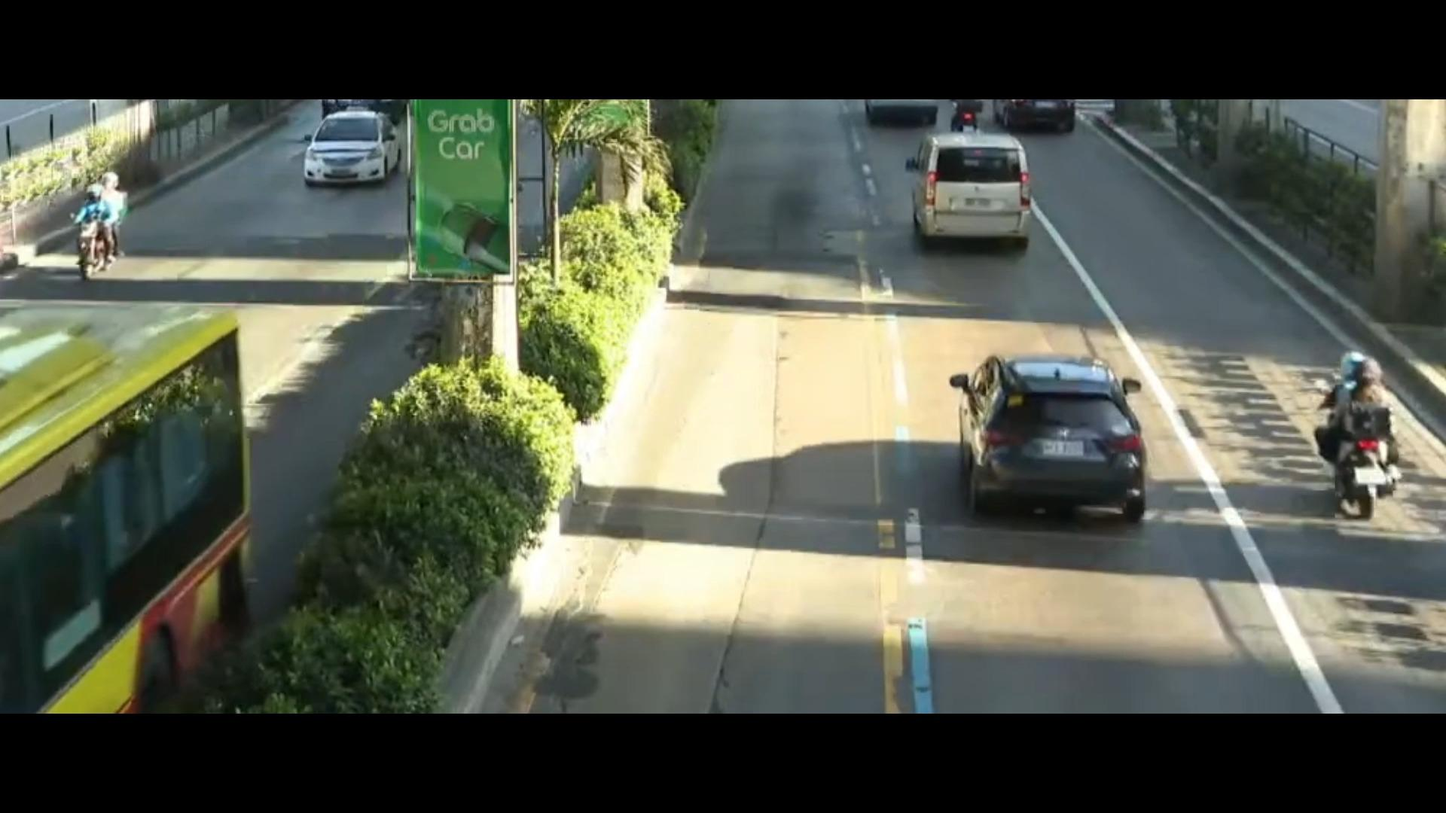Bus: (0, 279, 296, 712)
Motorcycle: (1296, 309, 1428, 572), (63, 147, 155, 265), (957, 102, 1004, 136)
SUV: (923, 343, 1187, 524)
Sedan: (298, 89, 400, 193)
Van: (891, 126, 1078, 249)
